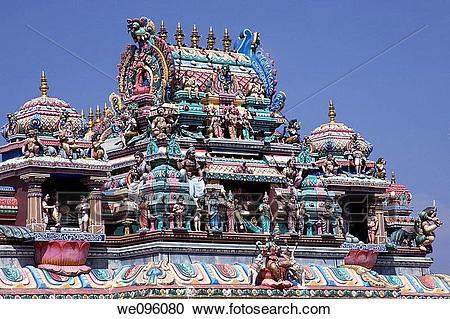Hindu Temple: (15, 18, 436, 294)
